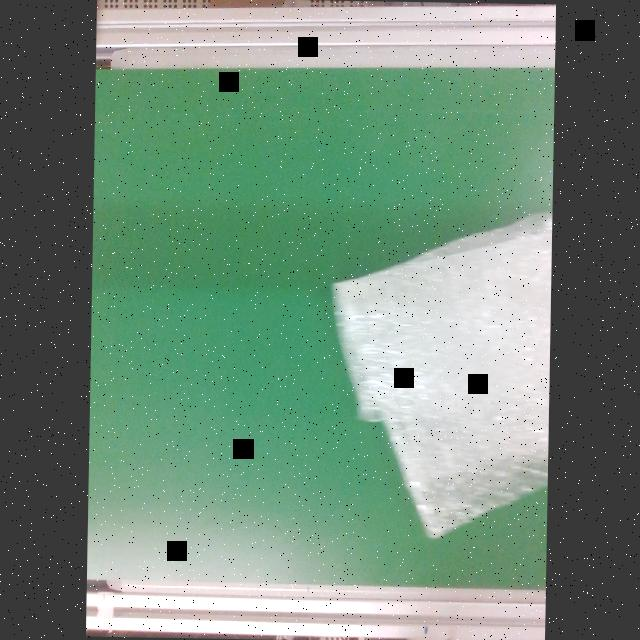scrap_plastic: (325, 208, 551, 542)
